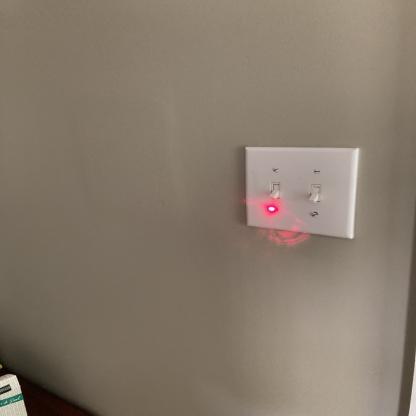target: (263, 204, 280, 217)
